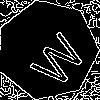W: (22, 25, 89, 91)
